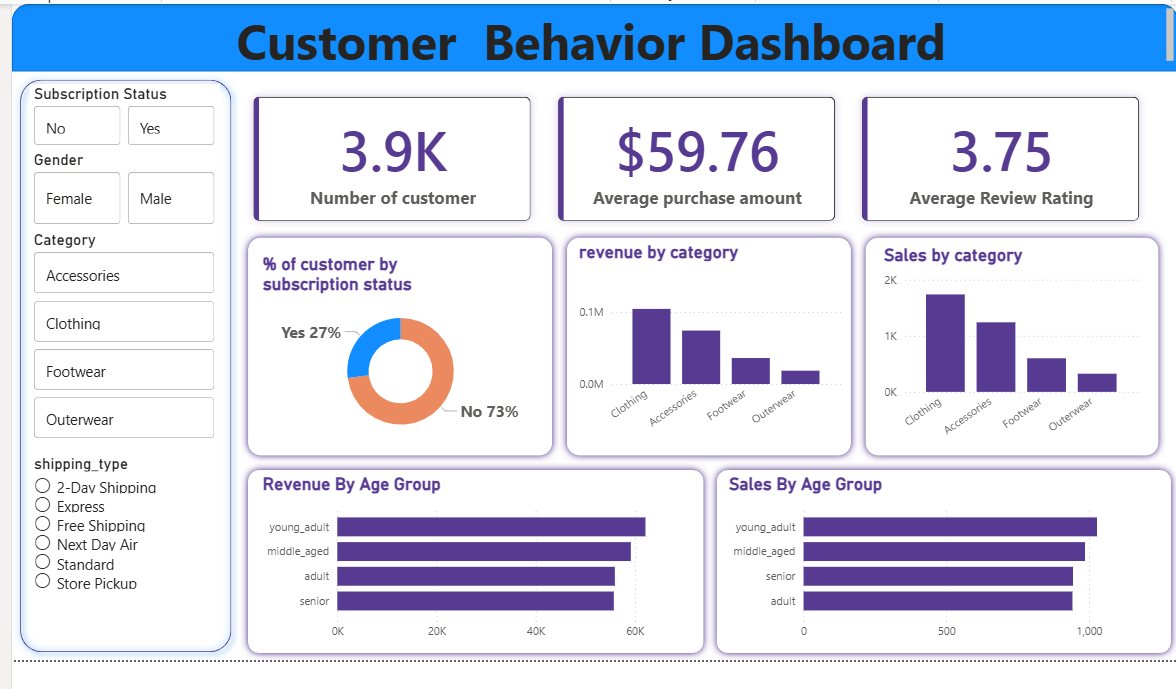

The dashboard page shown, as its layout file describes it:
{"tool":"powerbi","page":{"name":"Page 1","canvas":[1280,720],"ordinal":0},"visuals":[{"type":"cardVisual","fields":{"Data":["customer_shopping customer.Number of customer","customer_shopping customer.Average purchase amount","customer_shopping customer.Average Review Rating"]},"box":[237.4,74.1,1030.5,192.1],"z":0},{"type":"shape","box":[0,0,1280.3,74.1],"z":1000},{"type":"textbox","box":[0,0,1280.3,74.1],"z":2000},{"type":"shape","box":[251.1,248.4,349.9,255.2],"z":3000},{"type":"donutChart","title":"% of customer by subscription status","fields":{"Category":["customer_shopping customer.subscription_status"],"Y":["CountNonNull(customer_shopping customer.customer_id)"]},"box":[270.3,274.4,312.9,209.9],"z":4000},{"type":"shape","box":[601,248.4,328,255.2],"z":5000},{"type":"shape","box":[929,248.4,337.6,255.2],"z":6000},{"type":"clusteredColumnChart","title":"revenue by category","fields":{"Y":["Sum(customer_shopping customer.purchase_amount)"],"Category":["customer_shopping customer.category"]},"box":[617.5,260.7,297.8,223.7],"z":7000},{"type":"clusteredColumnChart","title":"Sales by category","fields":{"Y":["CountNonNull(customer_shopping customer.customer_id)"],"Category":["customer_shopping customer.category"]},"box":[952.3,264.8,289.5,229.2],"z":8000},{"type":"shape","box":[0,74.1,249.7,646.3],"z":9000},{"type":"advancedSlicerVisual","fields":{"Values":["customer_shopping customer.subscription_status"]},"box":[19.2,102.9,208.6,72.7],"z":10000},{"type":"advancedSlicerVisual","fields":{"Values":["customer_shopping customer.gender"]},"box":[19.2,175.6,208.6,71.4],"z":11000},{"type":"advancedSlicerVisual","fields":{"Values":["customer_shopping customer.category"]},"box":[19.2,247,208.6,226.4],"z":12000},{"type":"listSlicer","fields":{"Values":["customer_shopping customer.shipping_type"]},"box":[19.2,484.4,208.6,196.2],"z":12001},{"type":"shape","box":[251.1,503.6,516,216.8],"z":12002},{"type":"shape","box":[765.7,503.6,514.6,216.8],"z":12003},{"type":"clusteredBarChart","title":"Revenue By Age Group","fields":{"Y":["Sum(customer_shopping customer.purchase_amount)"],"Category":["customer_shopping customer.age_group"]},"box":[270.3,516,483,190.7],"z":12004},{"type":"clusteredBarChart","title":"Sales By Age Group","fields":{"Y":["CountNonNull(customer_shopping customer.customer_id)"],"Category":["customer_shopping customer.age_group"]},"box":[782.2,516,483,190.7],"z":12005}]}

Visuals, with their boxes in screenshot pixels (x1, y1, x2, y2):
cardVisual - customer_shopping customer.Number of customer x customer_shopping customer.Average purchase amount: (230,67,1164,241)
shape: (15,0,1175,67)
textbox: (15,0,1175,67)
shape: (243,225,560,456)
"% of customer by subscription status" donutChart: (260,249,544,439)
shape: (560,225,857,456)
shape: (857,225,1163,456)
"revenue by category" clusteredColumnChart: (575,236,845,439)
"Sales by category" clusteredColumnChart: (878,240,1140,448)
shape: (15,67,242,653)
advancedSlicerVisual - customer_shopping customer.subscription_status: (33,93,222,159)
advancedSlicerVisual - customer_shopping customer.gender: (33,159,222,224)
advancedSlicerVisual - customer_shopping customer.category: (33,224,222,429)
listSlicer - customer_shopping customer.shipping_type: (33,439,222,617)
shape: (243,456,710,653)
shape: (709,456,1175,653)
"Revenue By Age Group" clusteredBarChart: (260,468,698,640)
"Sales By Age Group" clusteredBarChart: (724,468,1162,640)
